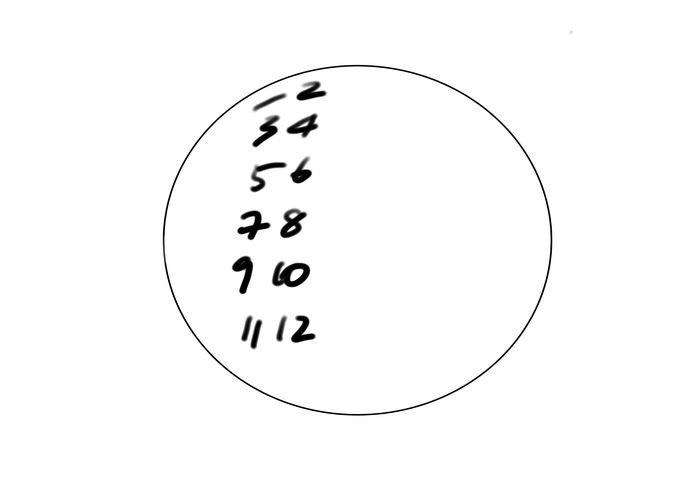eight: (277, 207, 307, 241)
eleven: (237, 311, 262, 351)
five: (249, 159, 285, 192)
four: (290, 112, 320, 142)
nine: (229, 251, 255, 299)
one: (252, 90, 289, 111)
seven: (237, 207, 271, 243)
six: (289, 151, 314, 185)
ten: (272, 256, 309, 290)
three: (252, 114, 280, 144)
twelve: (274, 312, 320, 344)
two: (296, 79, 329, 103)
